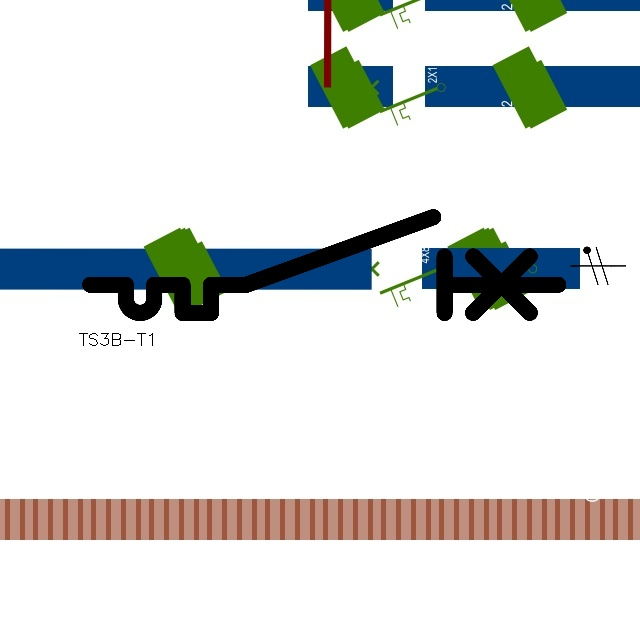interruptor_termomagnetico: (78, 205, 570, 325)
